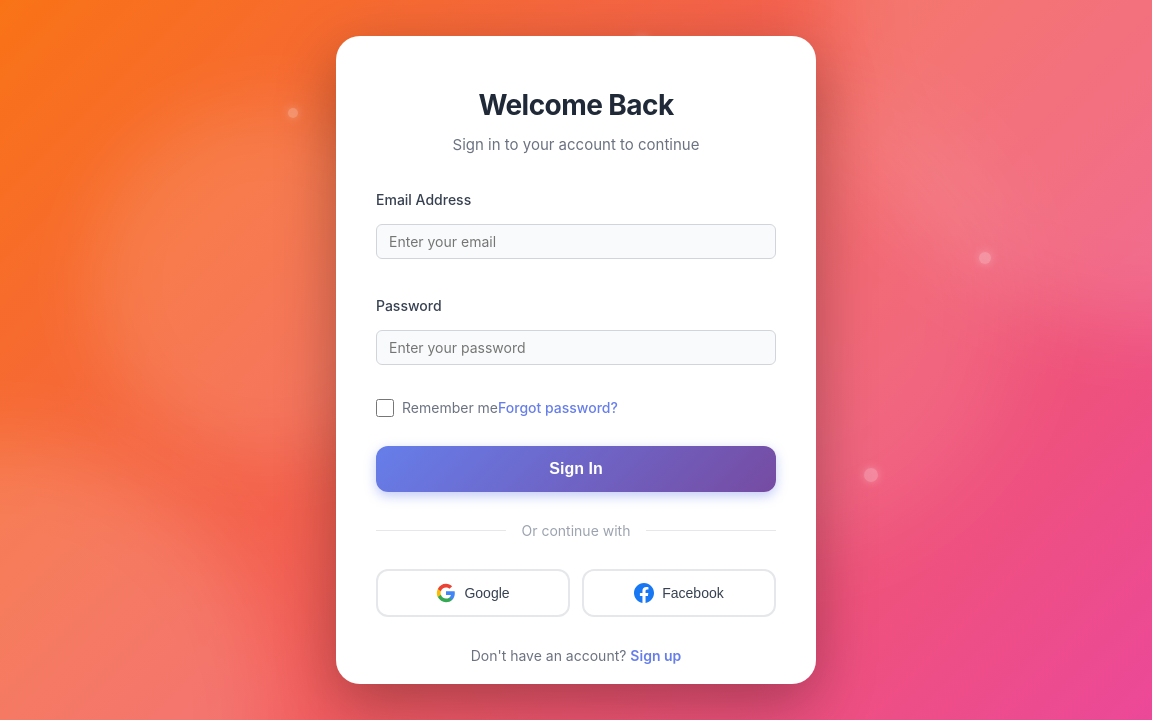
Test case: Login integration › api error shows message and does not navigate
The image size is (1152, 720).
Step 1. Type "user@test.com" into the field with placeholder "Enter your email" → (576, 241), box [376, 224, 776, 258]
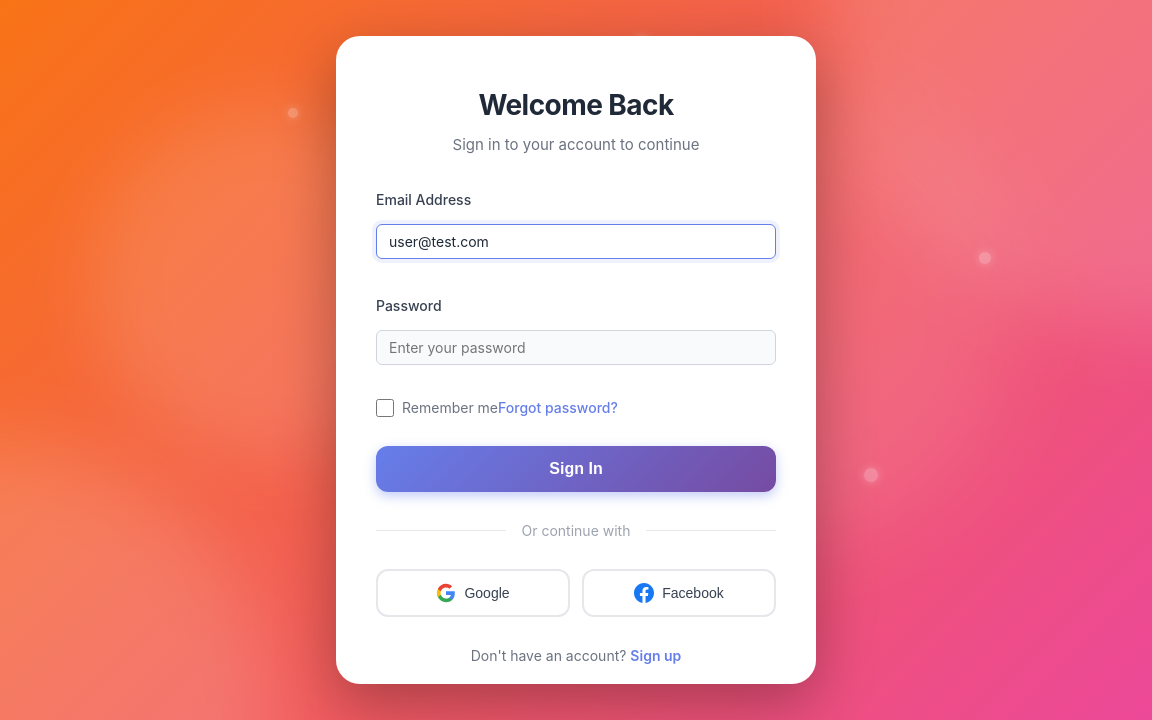
Step 2. Type "password1" into the password field with placeholder "Enter your password" → (576, 347), box [376, 330, 776, 364]
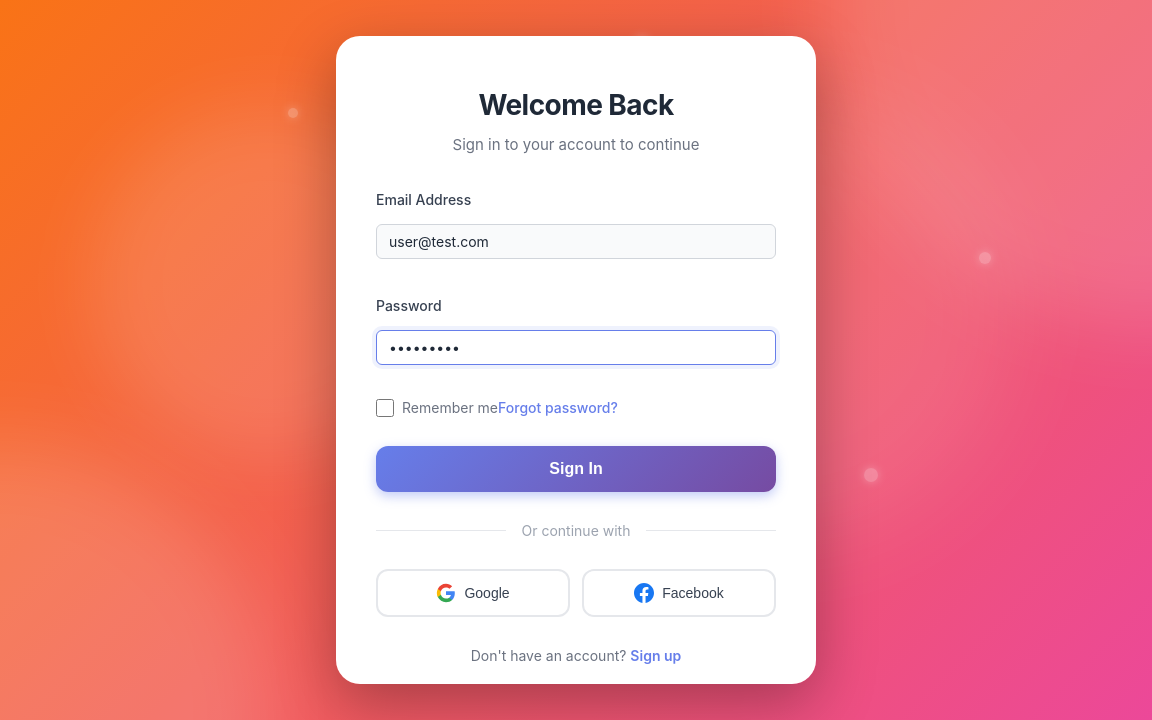
Step 3. Click the button "Sign In" → (576, 468), box [376, 446, 776, 492]
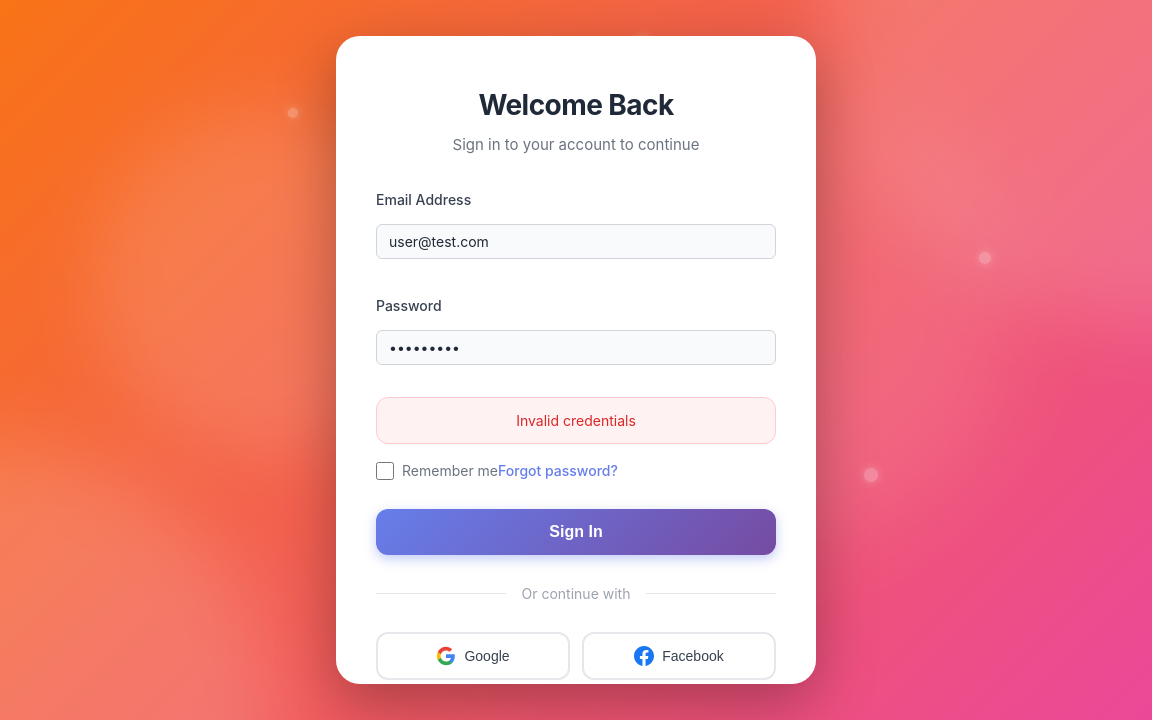
Expected: the text "Invalid credentials" is shown, [376, 396, 776, 444]
